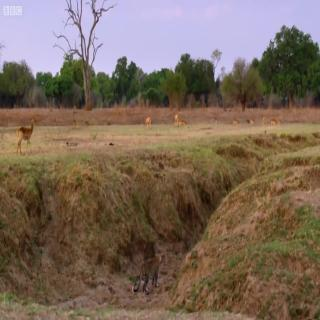Leopard: (129, 241, 169, 293)
